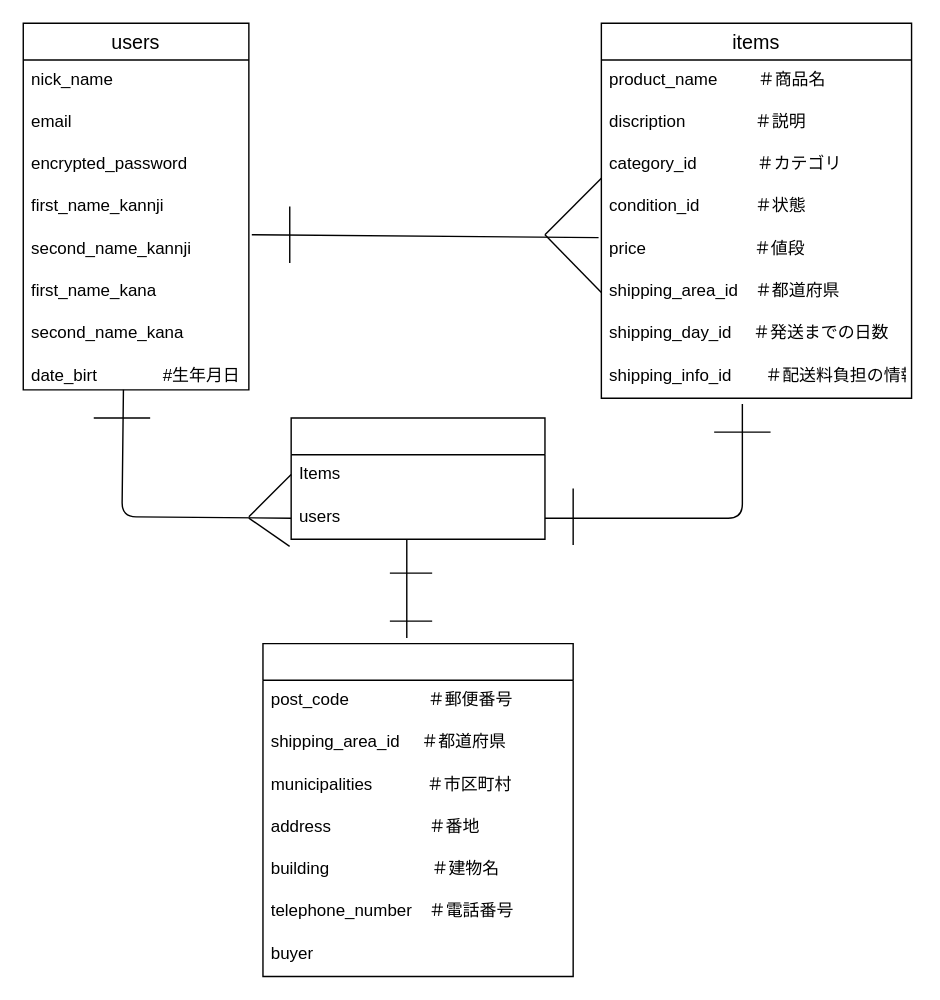
Image size: 940x1000. Some labels were removed from this diagram. The shapes that lost their labels are listed below. From the top down, each one's box as (x1, y1, x2, y2) in pixels, then its label:
(290, 417, 545, 539): buyers
(262, 642, 573, 976): shipping_addresses
